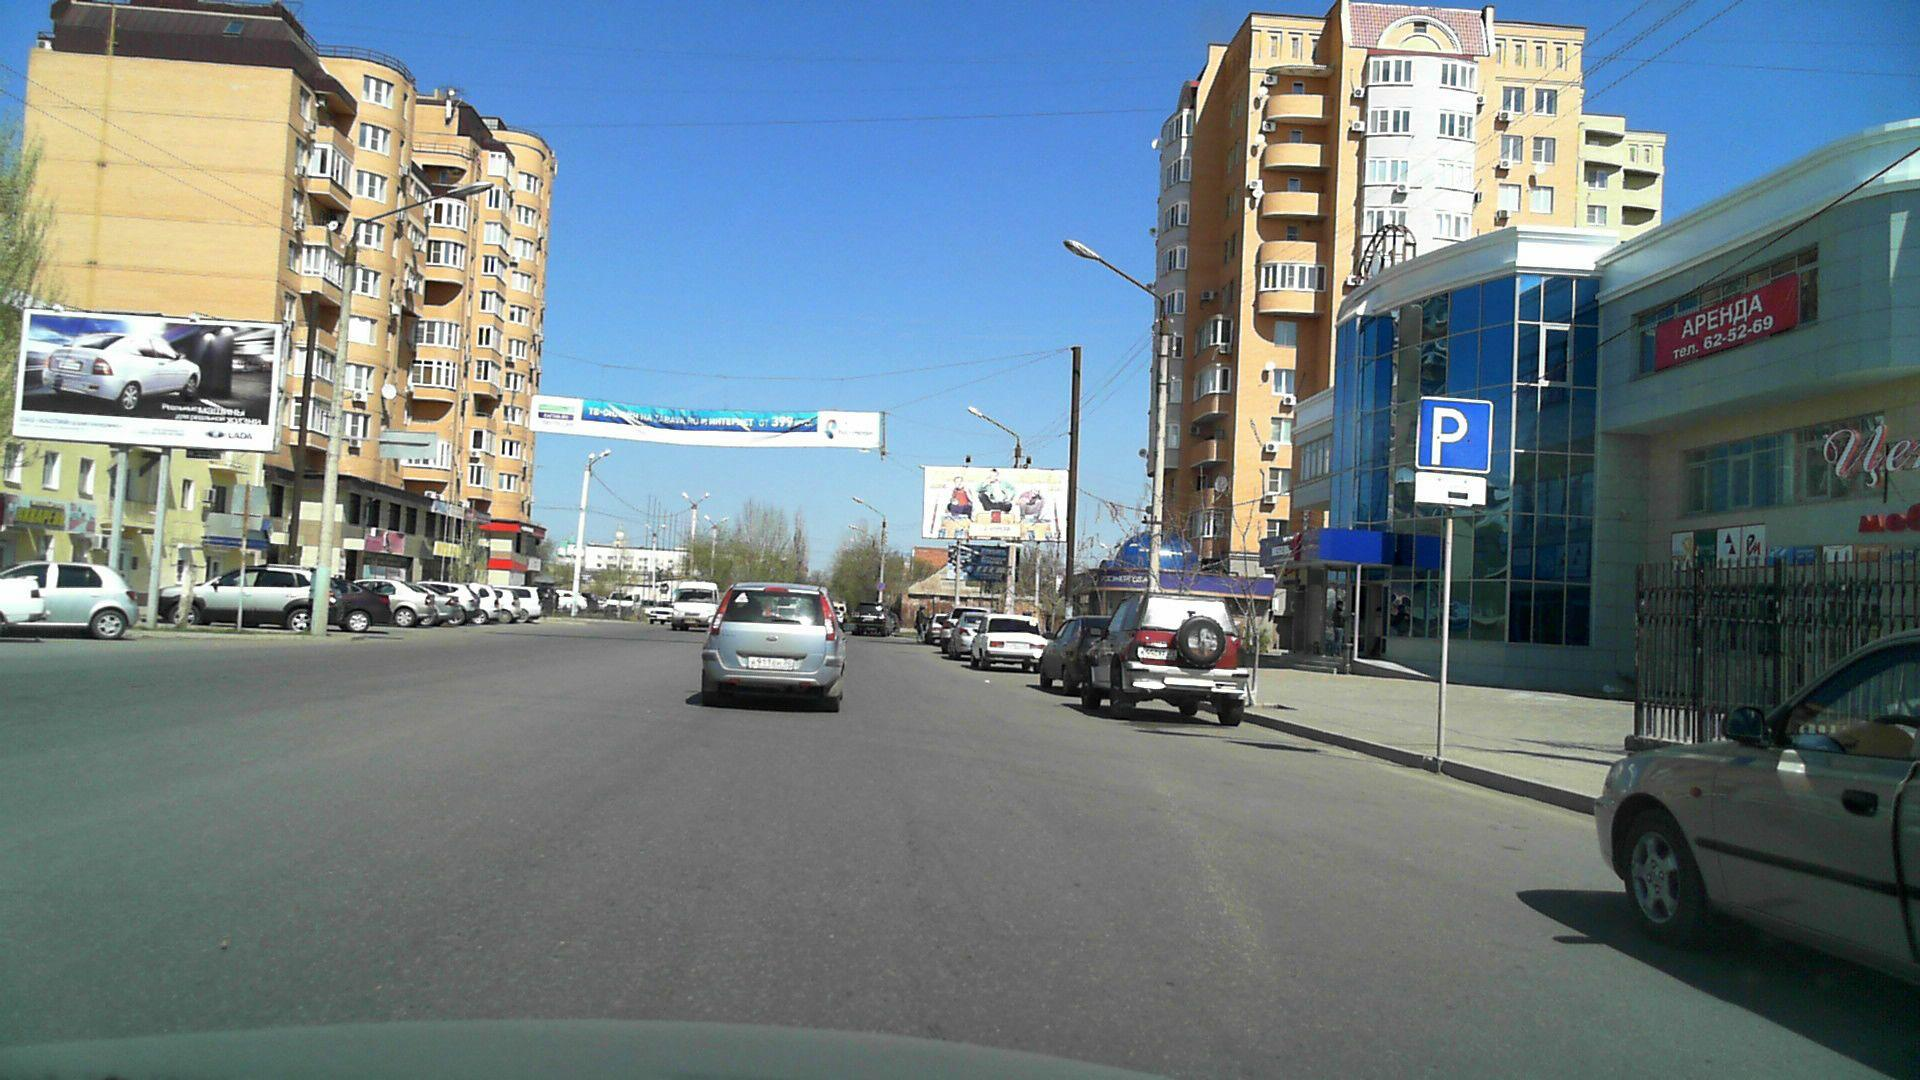3_28: (876, 580, 887, 593)
6_4: (1418, 394, 1493, 472)
8_6_1: (1414, 473, 1485, 504)
